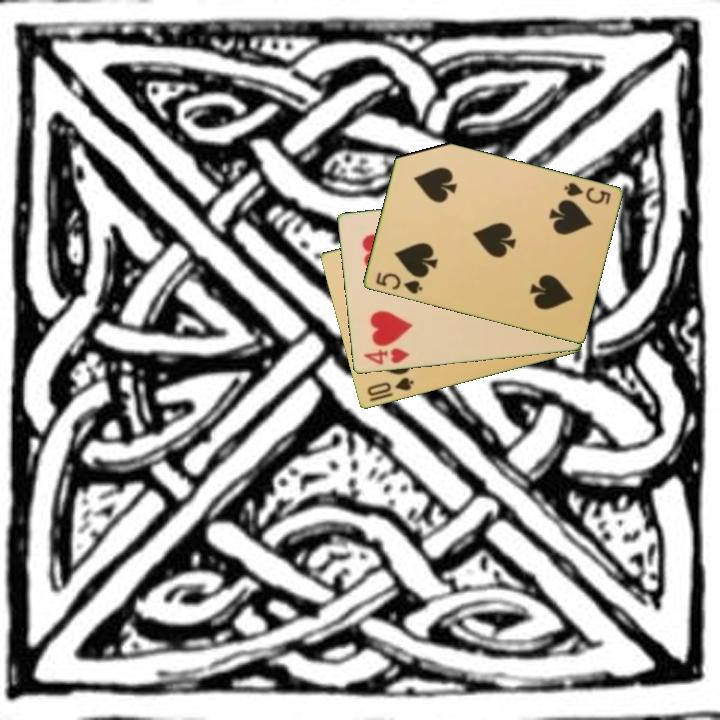10s: (363, 374, 416, 399)
4h: (360, 345, 412, 368)
5s: (372, 269, 425, 297), (560, 179, 613, 207)
